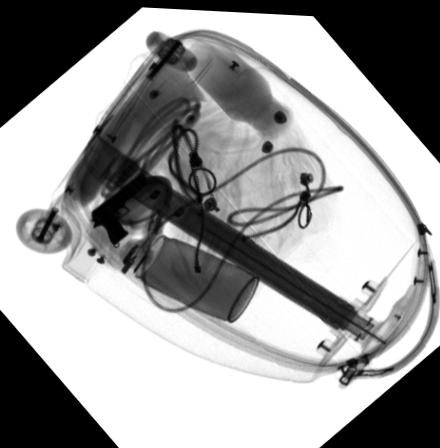Gun: (91, 168, 149, 244)
